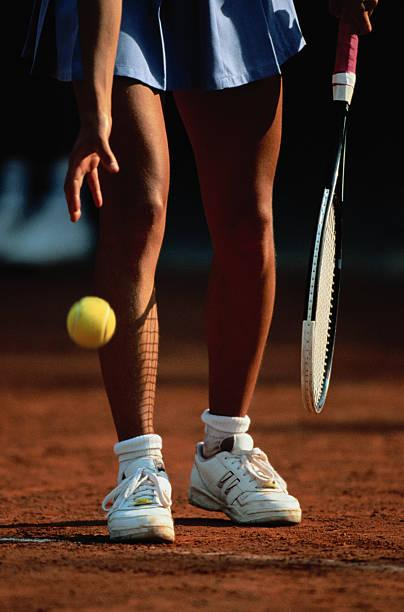ball_tennis: (67, 297, 119, 349)
